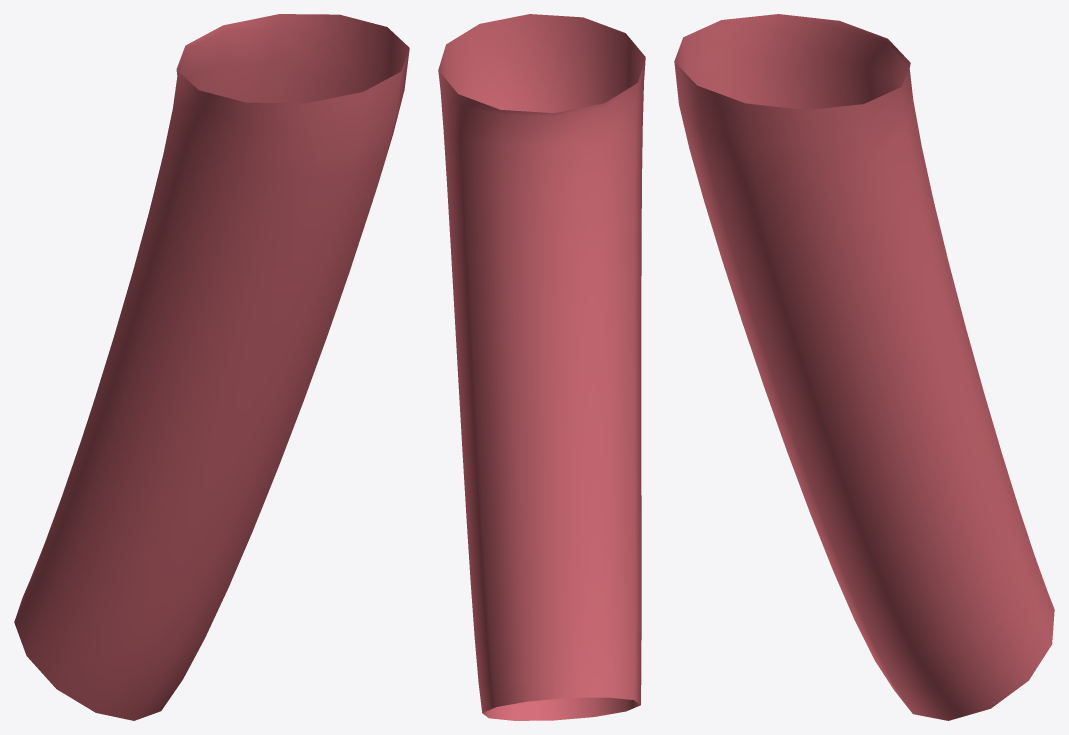
3 renders of one model, left to right at view 1: azimuth 30°, elevation 25°; view 2: azimuth 150°, elevation 25°; view 3: azimuth 270°, elevation 25°, orthographic. The views are drawn at different scales.
Parts seen in each view (by area): view 1: ZA_1e91fb969db39da3; view 2: ZA_1e91fb969db39da3; view 3: ZA_1e91fb969db39da3.
Boxes of the visible parts, bbox=[...] form: ZA_1e91fb969db39da3: bbox=[14, 14, 409, 720]; ZA_1e91fb969db39da3: bbox=[438, 14, 645, 720]; ZA_1e91fb969db39da3: bbox=[674, 14, 1054, 720].
Bounding box in the file's own units: 0.0239 × 0.0546 × 0.0271.
